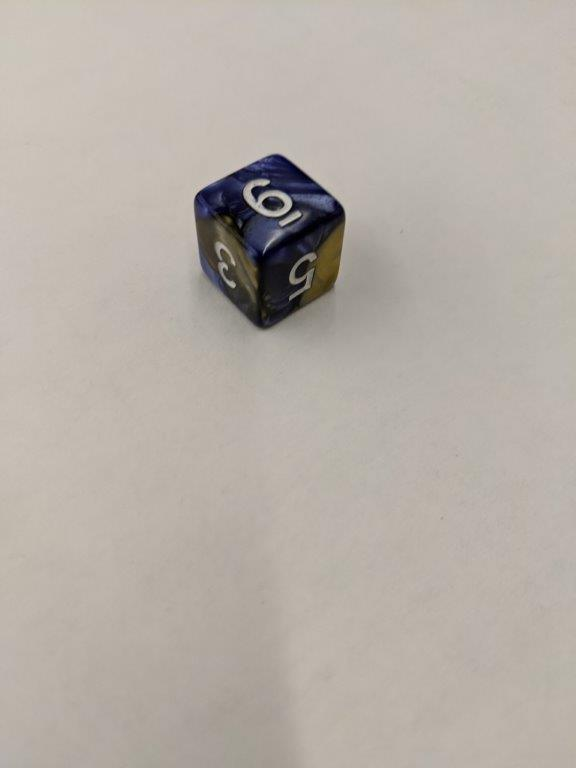d6-6: (192, 155, 346, 332)
